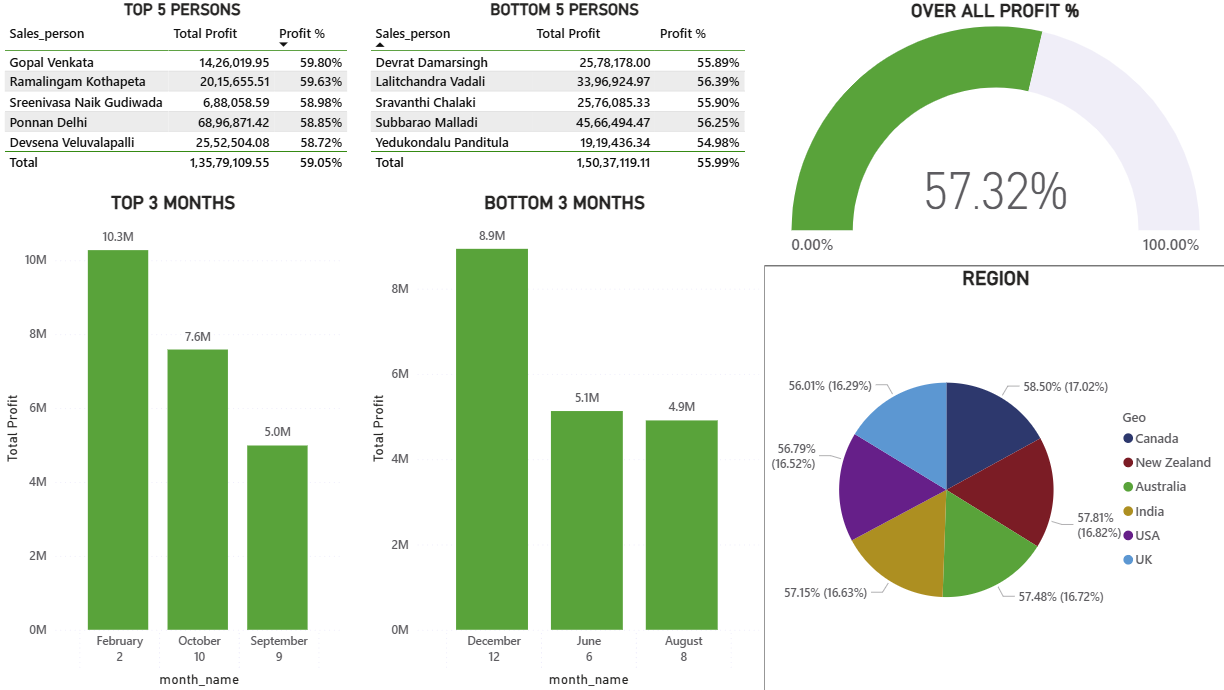

Layout of this report page (visuals, bound fields, positions):
{"tool":"powerbi","page":{"name":"Page 4","canvas":[1280,720],"ordinal":3},"visuals":[{"type":"tableEx","title":"TOP 5 PERSONS ","fields":{"Values":["people.Sales_person","shipments.Total Profit","shipments.Profit %"]},"box":[0,0,381.7,200.3],"z":0},{"type":"clusteredColumnChart","title":"TOP 3 MONTHS ","fields":{"Category":["calendar.Month_num","calendar.month_name"],"Y":["shipments.Total Profit"]},"box":[0,200.3,362.8,519.7],"z":1000},{"type":"pieChart","title":"REGION","fields":{"Category":["locations.Geo"],"Y":["shipments.Profit %"]},"box":[797.5,275.9,481.9,444.1],"z":2000},{"type":"tableEx","title":"BOTTOM 5 PERSONS","fields":{"Values":["people.Sales_person","shipments.Total Profit","shipments.Profit %"]},"box":[381.7,0,415.8,200.3],"z":3000},{"type":"clusteredColumnChart","title":"BOTTOM 3 MONTHS","fields":{"Category":["calendar.Month_num","calendar.month_name"],"Y":["shipments.Total Profit"]},"box":[381.7,200.3,415.8,519.7],"z":4000},{"type":"gauge","title":"OVER ALL PROFIT %","fields":{"Y":["shipments.Profit %"]},"box":[797.5,0,481.9,275.9],"z":5000}]}

Visuals, with their boxes in screenshot pixels (x1, y1, x2, y2), scaled from the page's 1280x720 canvas onto the 1224x690 screenshot:
"TOP 5 PERSONS " tableEx: l=0, t=0, r=365, b=192
"TOP 3 MONTHS " clusteredColumnChart: l=0, t=192, r=347, b=689
"REGION" pieChart: l=763, t=264, r=1223, b=689
"BOTTOM 5 PERSONS" tableEx: l=365, t=0, r=763, b=192
"BOTTOM 3 MONTHS" clusteredColumnChart: l=365, t=192, r=763, b=689
"OVER ALL PROFIT %" gauge: l=763, t=0, r=1223, b=264
